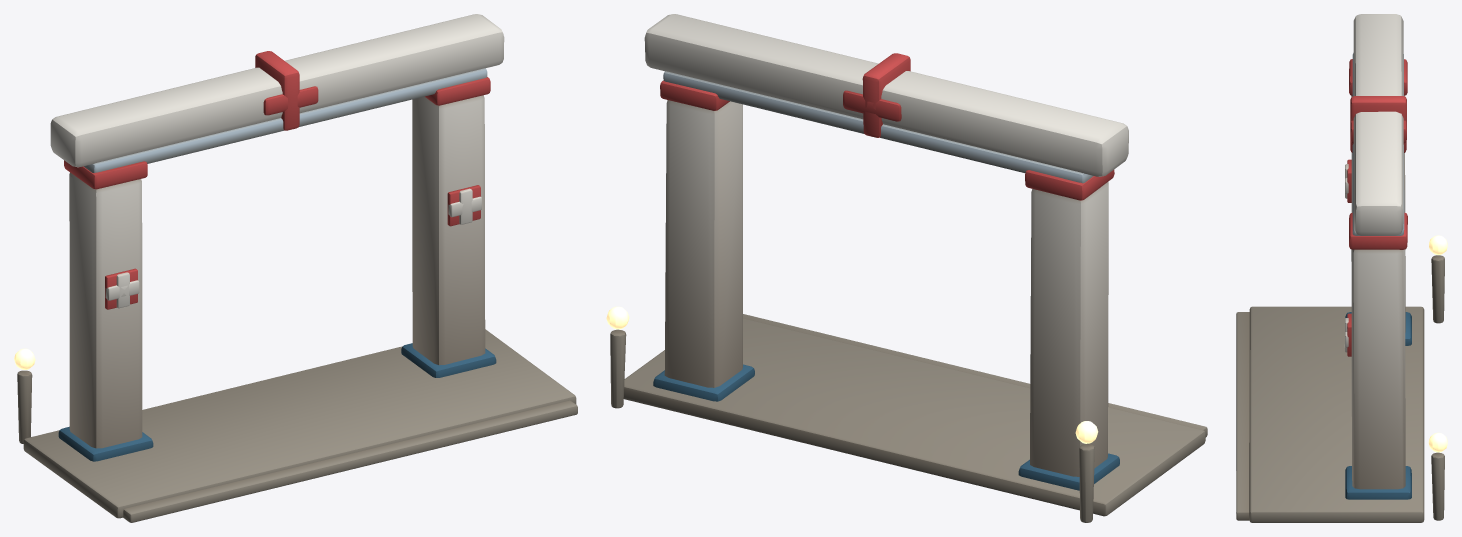
The picture shows the model from 3 angles, left to right: view 1: azimuth 30°, elevation 25°; view 2: azimuth 150°, elevation 25°; view 3: azimuth 270°, elevation 25°; orthographic projection. The views are drawn at different scales.
Visible parts, largest first — view 1: gate_3aaea9c0; view 2: gate_3aaea9c0; view 3: gate_3aaea9c0.
Part boxes in pixels (x1,y1,x2,y2): gate_3aaea9c0: (14, 14, 577, 522); gate_3aaea9c0: (606, 14, 1207, 522); gate_3aaea9c0: (1236, 14, 1447, 522).
Size of the model in its own units: 5.87 by 4.29 by 2.54.
